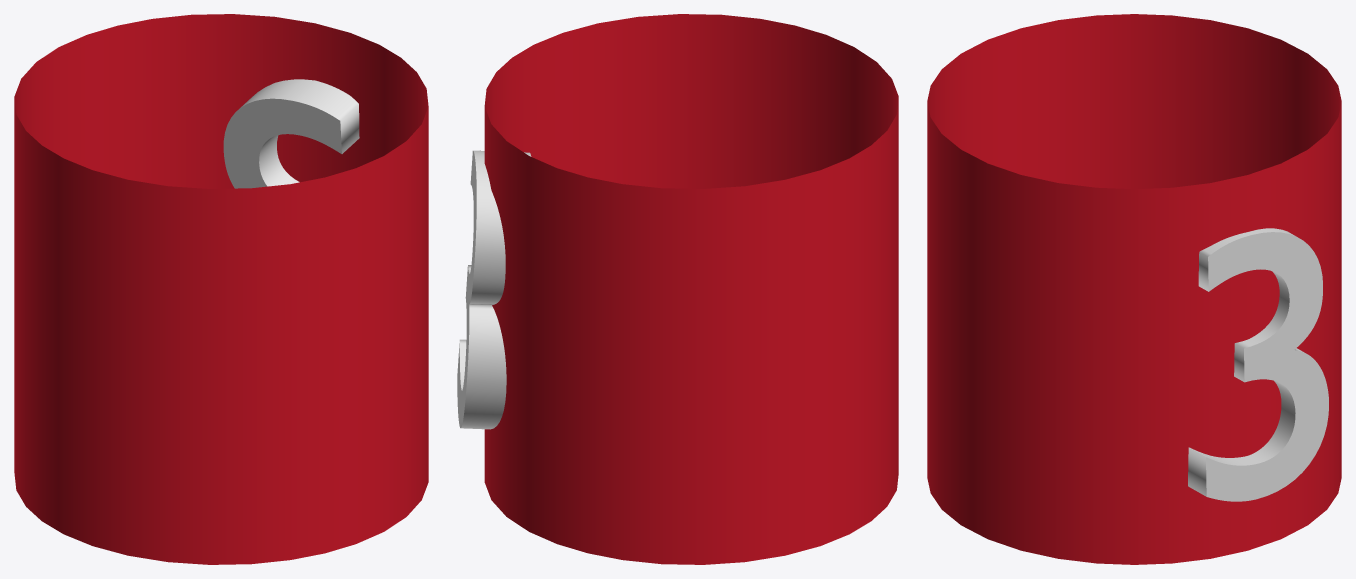
File: redcylinder1.glb
3 views of the same model, side by side, from view 1: azimuth 30°, elevation 25°; view 2: azimuth 150°, elevation 25°; view 3: azimuth 270°, elevation 25° (orthographic).
Visible parts, largest first — view 1: SurfCylinder, Text; view 2: SurfCylinder, Text; view 3: SurfCylinder, Text.
Boxes of the visible parts, x1,y1,x2,y2 form: SurfCylinder: (14,14,428,564); Text: (223,79,359,188); SurfCylinder: (484,14,898,564); Text: (457,150,531,429); SurfCylinder: (927,14,1341,564); Text: (1188,228,1328,501).
Size of the model in its own units: 2.1 by 2 by 2.
